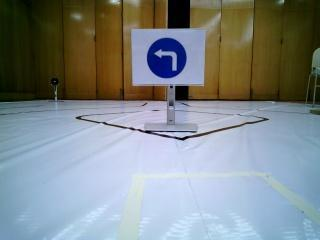left: (139, 36, 200, 78)
